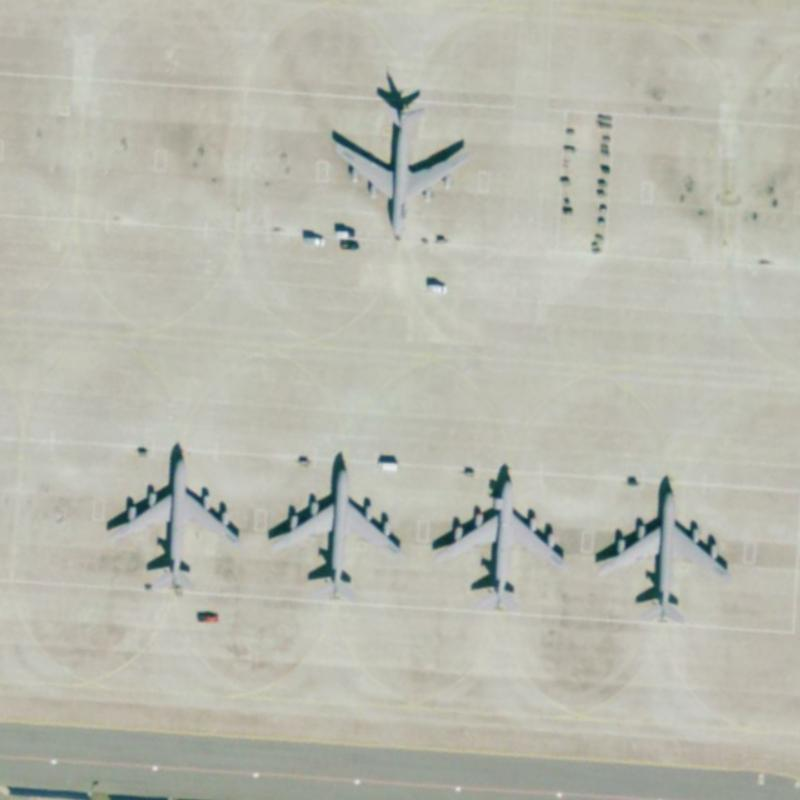A14: (324, 97, 471, 243), (586, 478, 735, 616), (97, 443, 242, 583), (259, 455, 405, 591), (421, 470, 570, 597)
